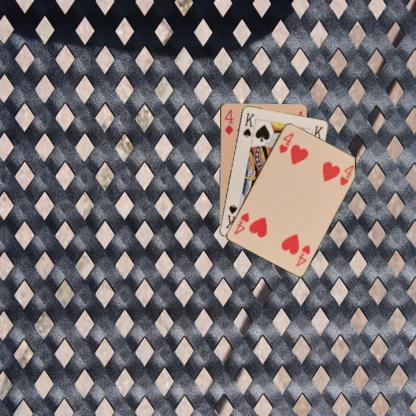4d: (222, 107, 234, 136)
4h: (276, 130, 296, 154), (293, 243, 311, 268)
Ks: (240, 110, 256, 138)
